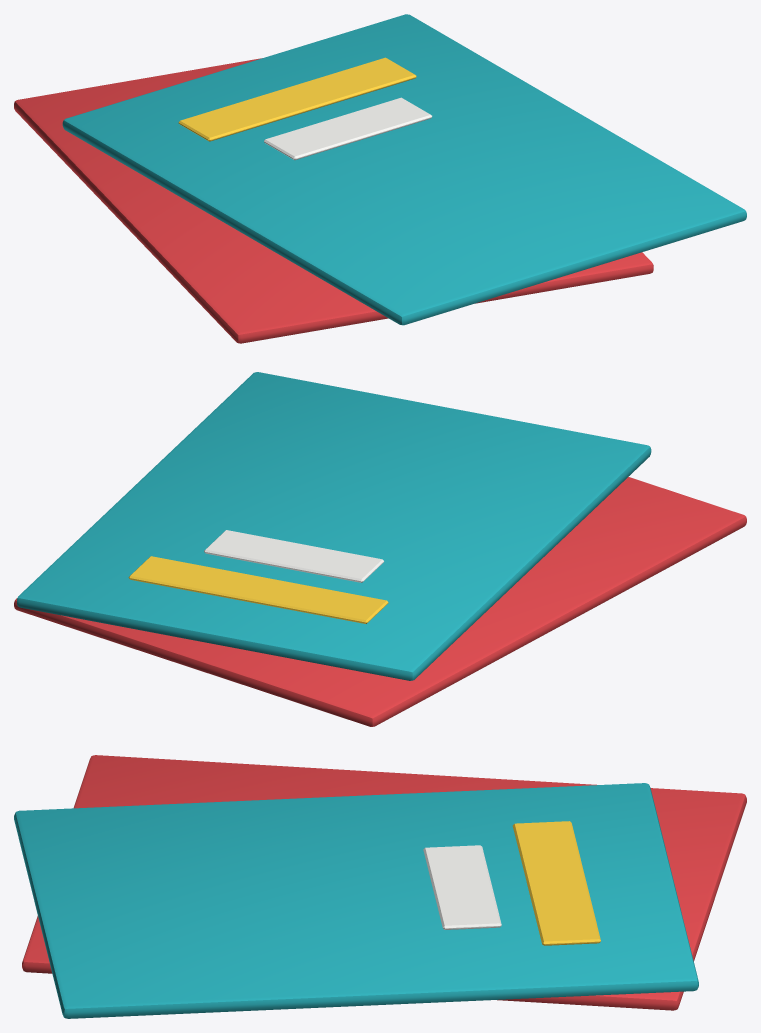
The model's file is revistas_par.glb.
3 renders of one model, top to bottom at view 1: azimuth 30°, elevation 25°; view 2: azimuth 150°, elevation 25°; view 3: azimuth 270°, elevation 25°, orthographic. The views are drawn at different scales.
Parts seen in each view (by area): view 1: revistas_par; view 2: revistas_par; view 3: revistas_par.
Part boxes in pixels (x1,y1,x2,y2): revistas_par: (14,14,746,343); revistas_par: (14,372,746,726); revistas_par: (14,755,746,1018).
Bounding box in the file's own units: 0.2679 × 0.0142 × 0.3092.
1 material, 1 textured.
